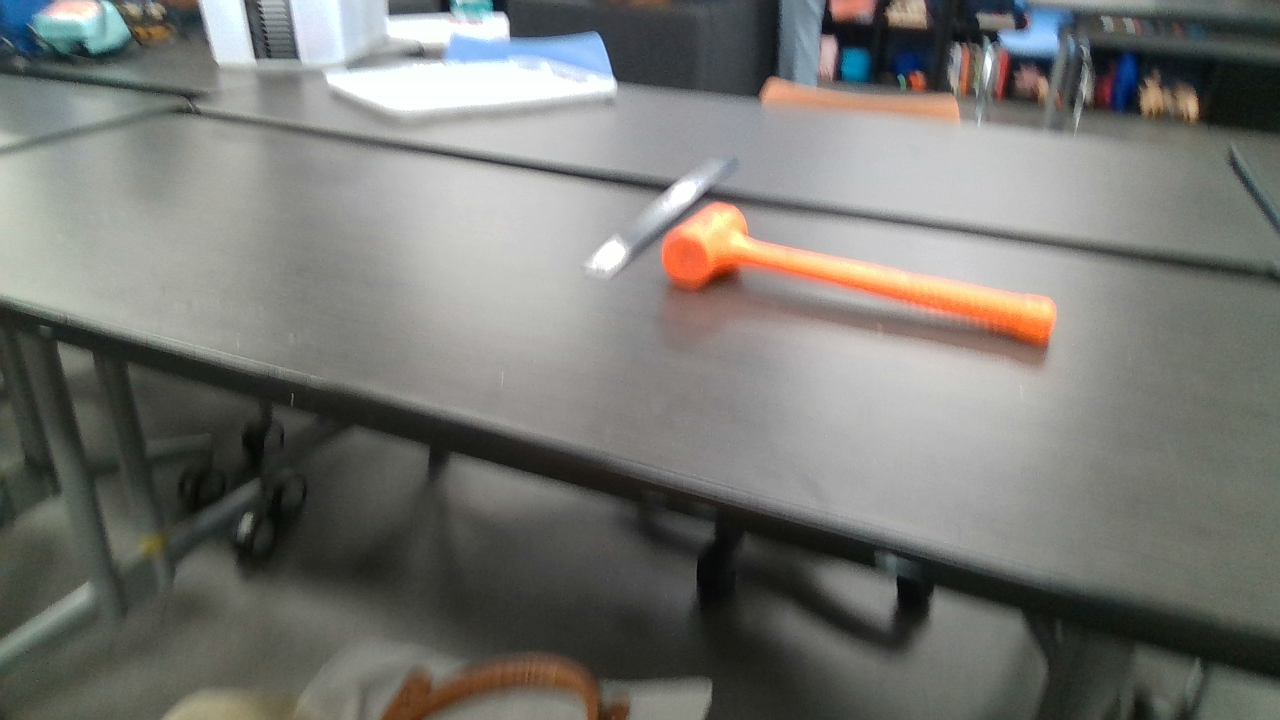Orange Hammer: (661, 202, 1052, 347)
